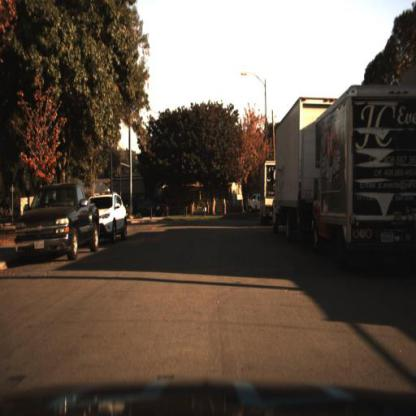car: (308, 83, 416, 262), (7, 181, 100, 275), (13, 180, 100, 269), (87, 190, 128, 246), (95, 194, 131, 244), (262, 159, 284, 232), (248, 192, 267, 218), (245, 189, 263, 214)
truck: (311, 78, 416, 272), (273, 98, 330, 247), (273, 93, 313, 258), (262, 161, 277, 222)
